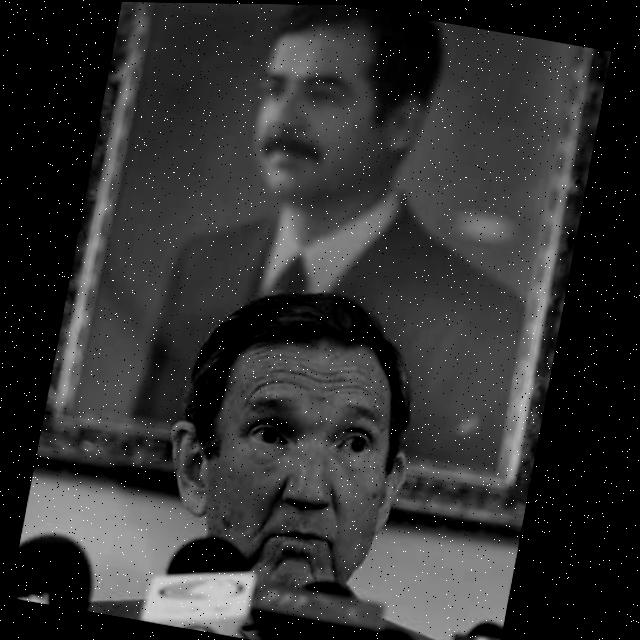face: (165, 319, 423, 607), (237, 25, 436, 235)
